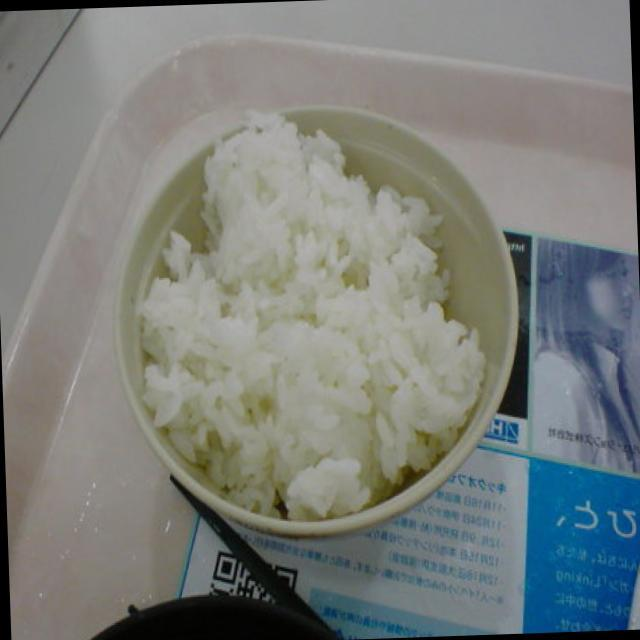Rice: (130, 120, 478, 500)
